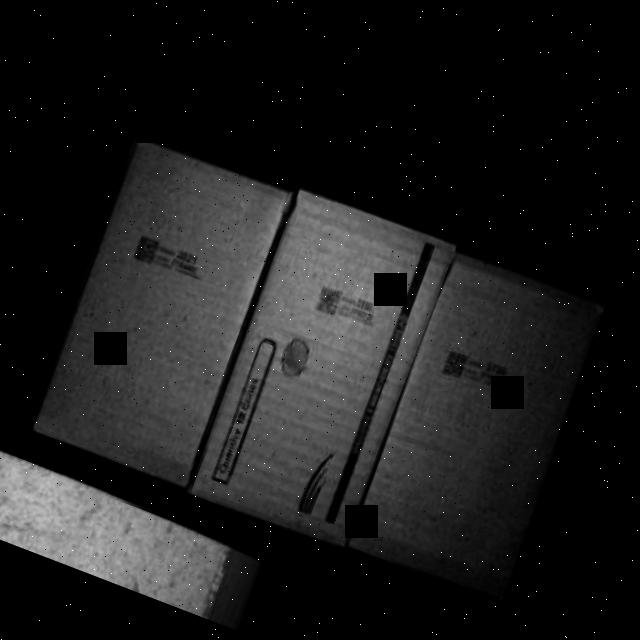box: (187, 186, 459, 544), (30, 136, 297, 490), (348, 248, 614, 599)
